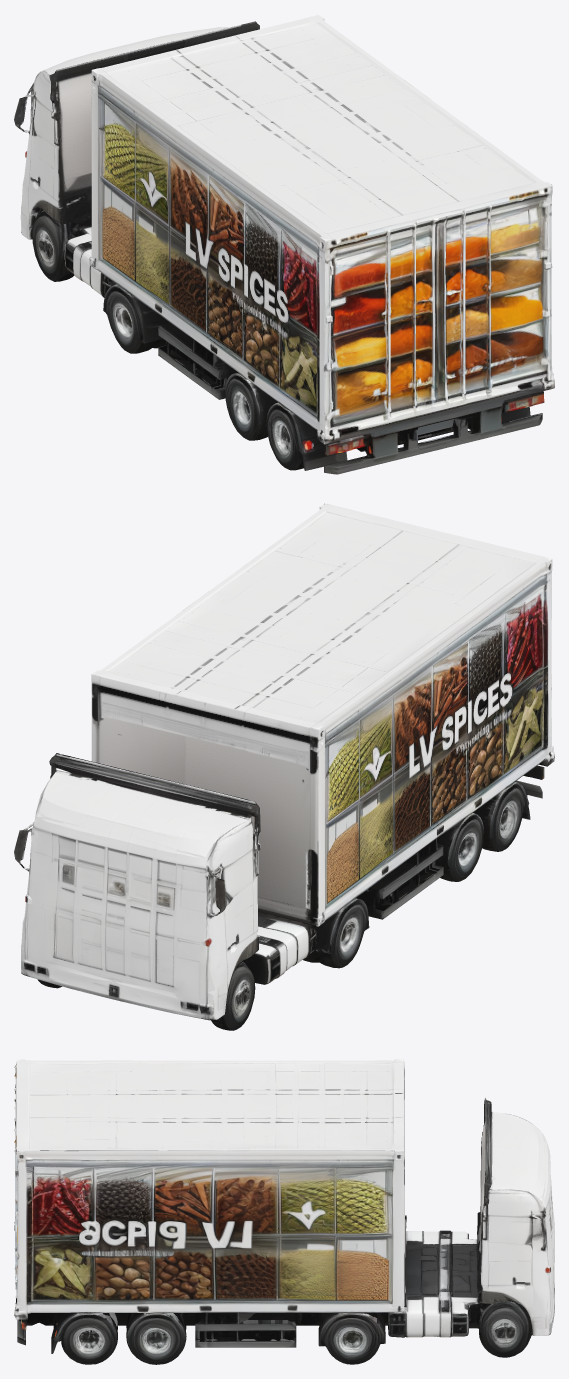
The model's file is base_basic_shaded.glb.
3 renders of one model, top to bottom at view 1: azimuth 30°, elevation 25°; view 2: azimuth 150°, elevation 25°; view 3: azimuth 270°, elevation 25°, orthographic. The views are drawn at different scales.
Parts seen in each view (by area): view 1: model; view 2: model; view 3: model.
Boxes of the visible parts, x1,y1,x2,y2 form: model: (14, 14, 554, 474); model: (14, 503, 554, 1030); model: (14, 1059, 554, 1364).
Bounding box in the file's own units: 0.773 × 0.8361 × 1.9.
1 material, 1 textured.
